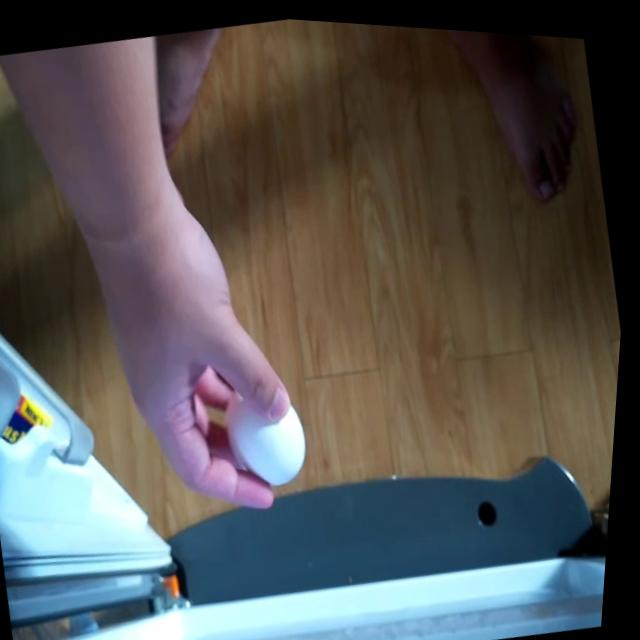egg: (226, 373, 324, 496)
